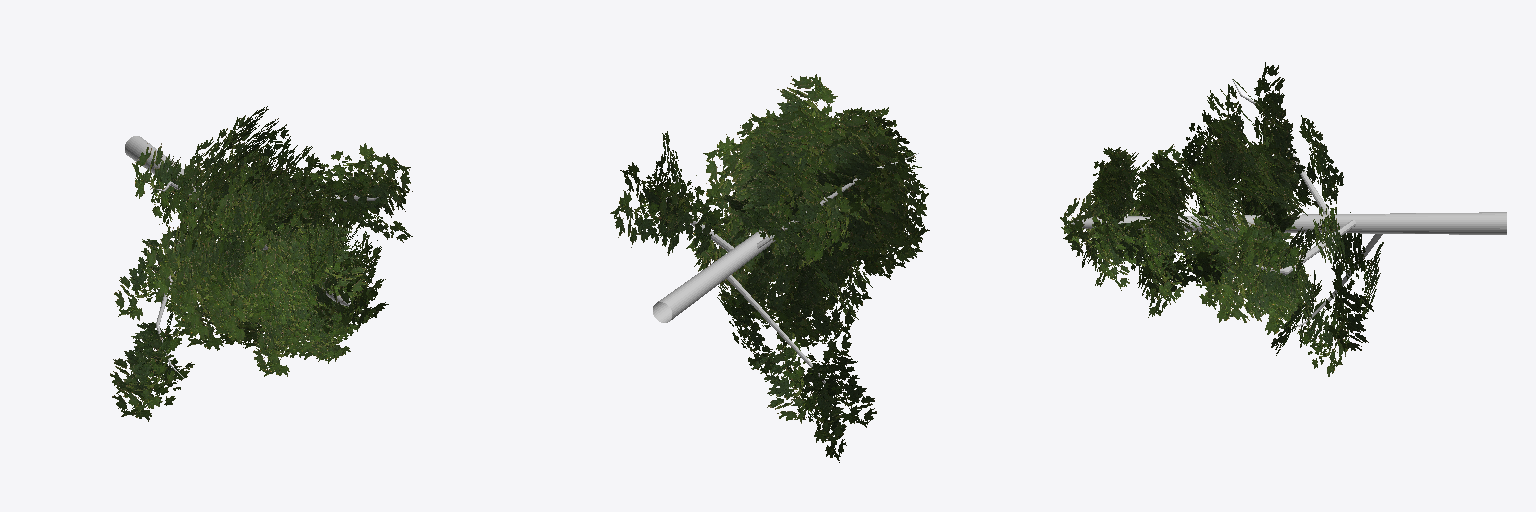
3 views of the same model, side by side, from view 1: azimuth 30°, elevation 25°; view 2: azimuth 150°, elevation 25°; view 3: azimuth 270°, elevation 25° (orthographic).
Visible parts, largest first — view 1: Cylinder, Cylinder.001; view 2: Cylinder, Cylinder.001; view 3: Cylinder, Cylinder.001.
Part boxes in pixels (bbox=[...]): Cylinder: bbox=[110, 106, 412, 421]; Cylinder.001: bbox=[125, 136, 378, 378]; Cylinder: bbox=[610, 74, 929, 462]; Cylinder.001: bbox=[653, 153, 918, 383]; Cylinder: bbox=[1060, 62, 1383, 376]; Cylinder.001: bbox=[1071, 79, 1506, 328].
Size of the model in its own units: 767 by 868 by 972.
2 materials, 1 textured.